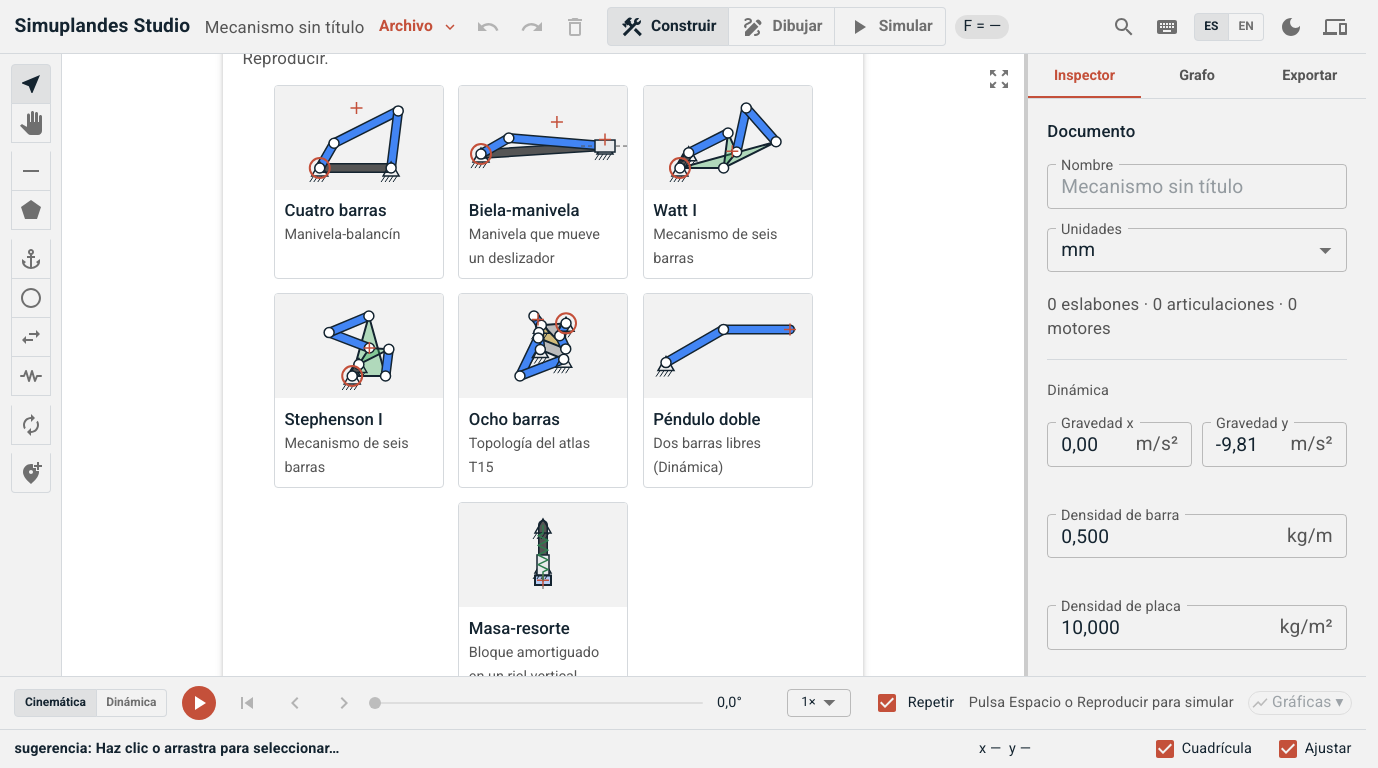
Test: App language switch (StudioShell wired through App) › clicking EN changes rail tooltips, dock tab labels and the hint with no root remount
Click the button "EN".
click(1246, 27)  # box [1228,13,1264,40]
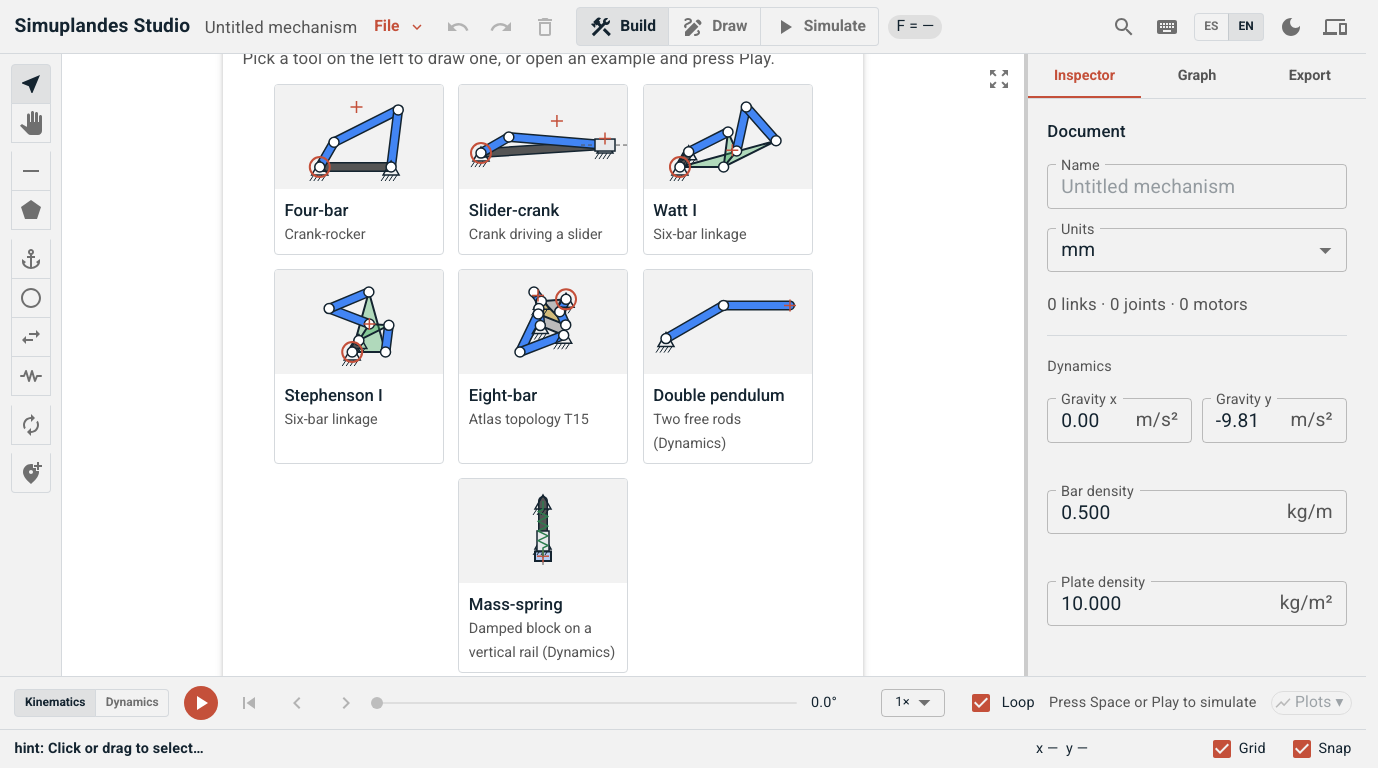
Expected: the tab "Inspector" is shown, [1028,54,1141,98]
Expected: the tab "Graph" is shown, [1141,54,1253,98]
Expected: the footer shows "Click or drag to select", [48,740,204,757]
